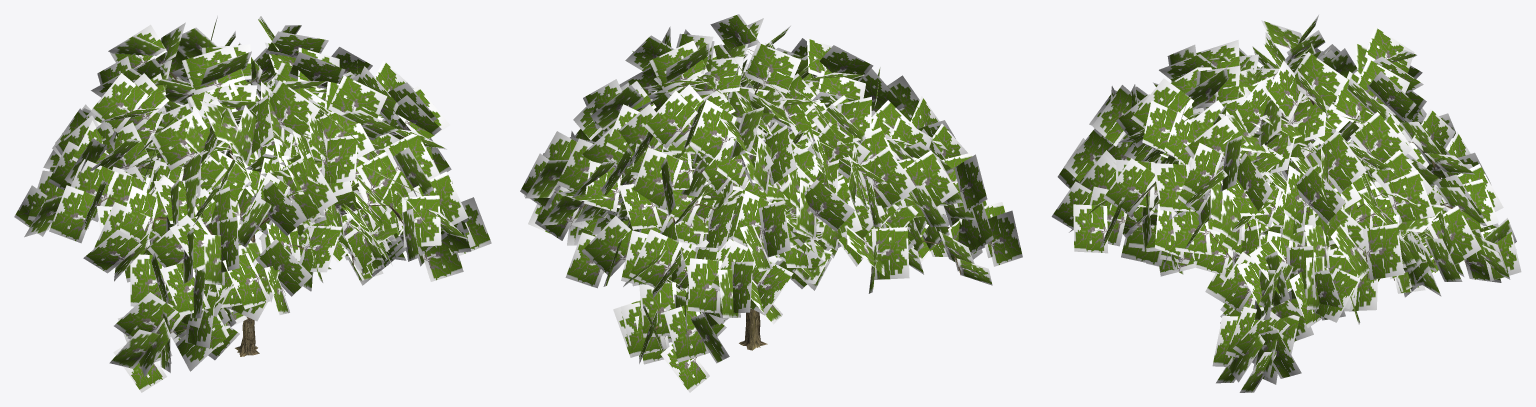
The model's file is tree1.glb.
3 views of the same model, side by side, from view 1: azimuth 30°, elevation 25°; view 2: azimuth 150°, elevation 25°; view 3: azimuth 270°, elevation 25° (orthographic).
Visible parts, largest first — view 1: Euro_Beech_7; view 2: Euro_Beech_7; view 3: Euro_Beech_7.
Part boxes in pixels (left/top/right/bottom): Euro_Beech_7: left=14, top=16, right=491, bottom=392; Euro_Beech_7: left=520, top=14, right=1022, bottom=392; Euro_Beech_7: left=1051, top=15, right=1521, bottom=392.
Size of the model in its own units: 24.15 by 16.65 by 22.89.
Materials: 2 (2 with a texture image).
